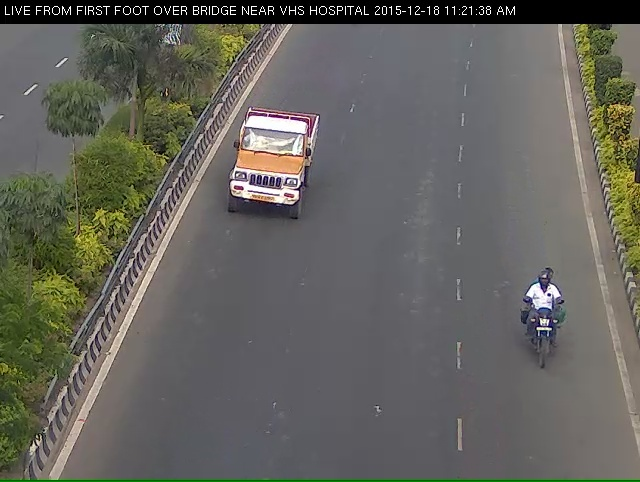Auto: (230, 106, 312, 226)
Person: (523, 275, 576, 379)
